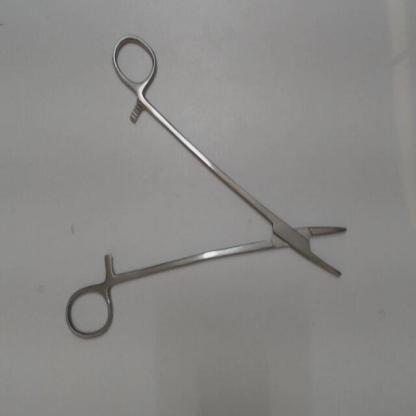8 Mayo Needle Holder: (59, 24, 361, 350)
